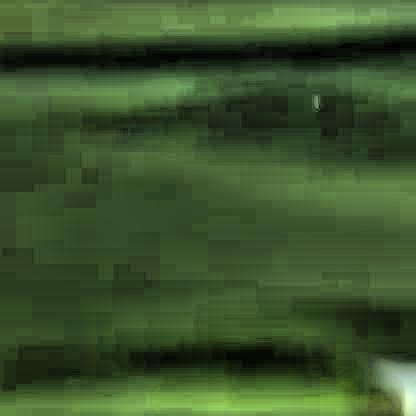golfball: (310, 86, 317, 102)
